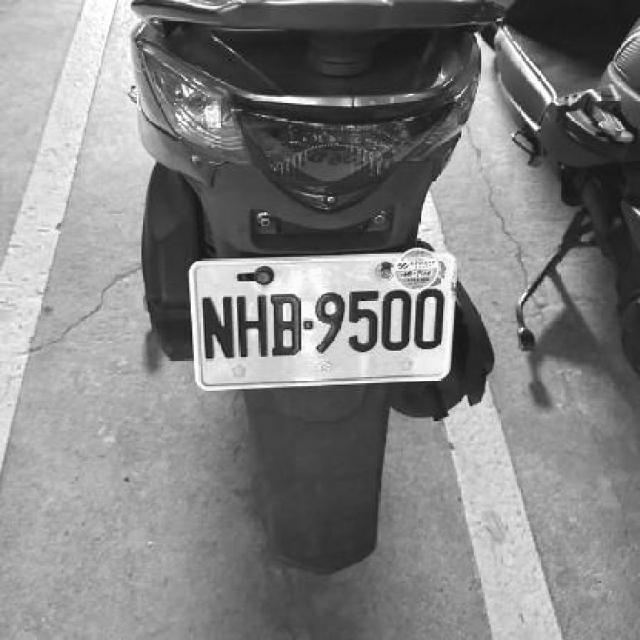-: (301, 317, 314, 329)
0: (380, 286, 414, 356), (412, 284, 446, 354)
5: (345, 289, 380, 357)
9: (312, 289, 348, 357)
B: (268, 294, 300, 358)
H: (235, 290, 271, 358)
N: (200, 291, 237, 358)
